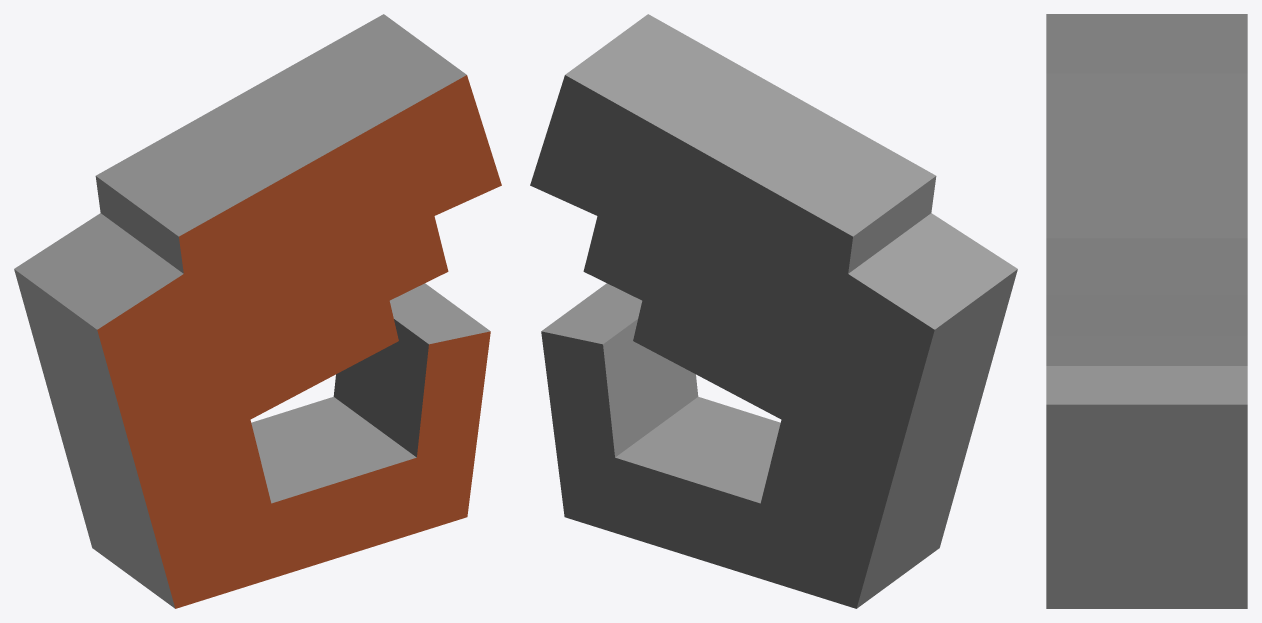
The model's file is construction_1026_assumed_A_Casa_h6m.obj.
3 renders of one model, left to right at view 1: azimuth 30°, elevation 25°; view 2: azimuth 150°, elevation 25°; view 3: azimuth 270°, elevation 25°, orthographic. The views are drawn at different scales.
Parts seen in each view (by area): view 1: construction_1026_assumed_A_Casa; view 2: construction_1026_assumed_A_Casa; view 3: construction_1026_assumed_A_Casa.
Part boxes in pixels (x1,y1,x2,y2): construction_1026_assumed_A_Casa: (14, 14, 501, 608); construction_1026_assumed_A_Casa: (530, 14, 1017, 608); construction_1026_assumed_A_Casa: (1046, 14, 1247, 608).
Bounding box in the file's own units: 16.85 × 18.41 × 6.
